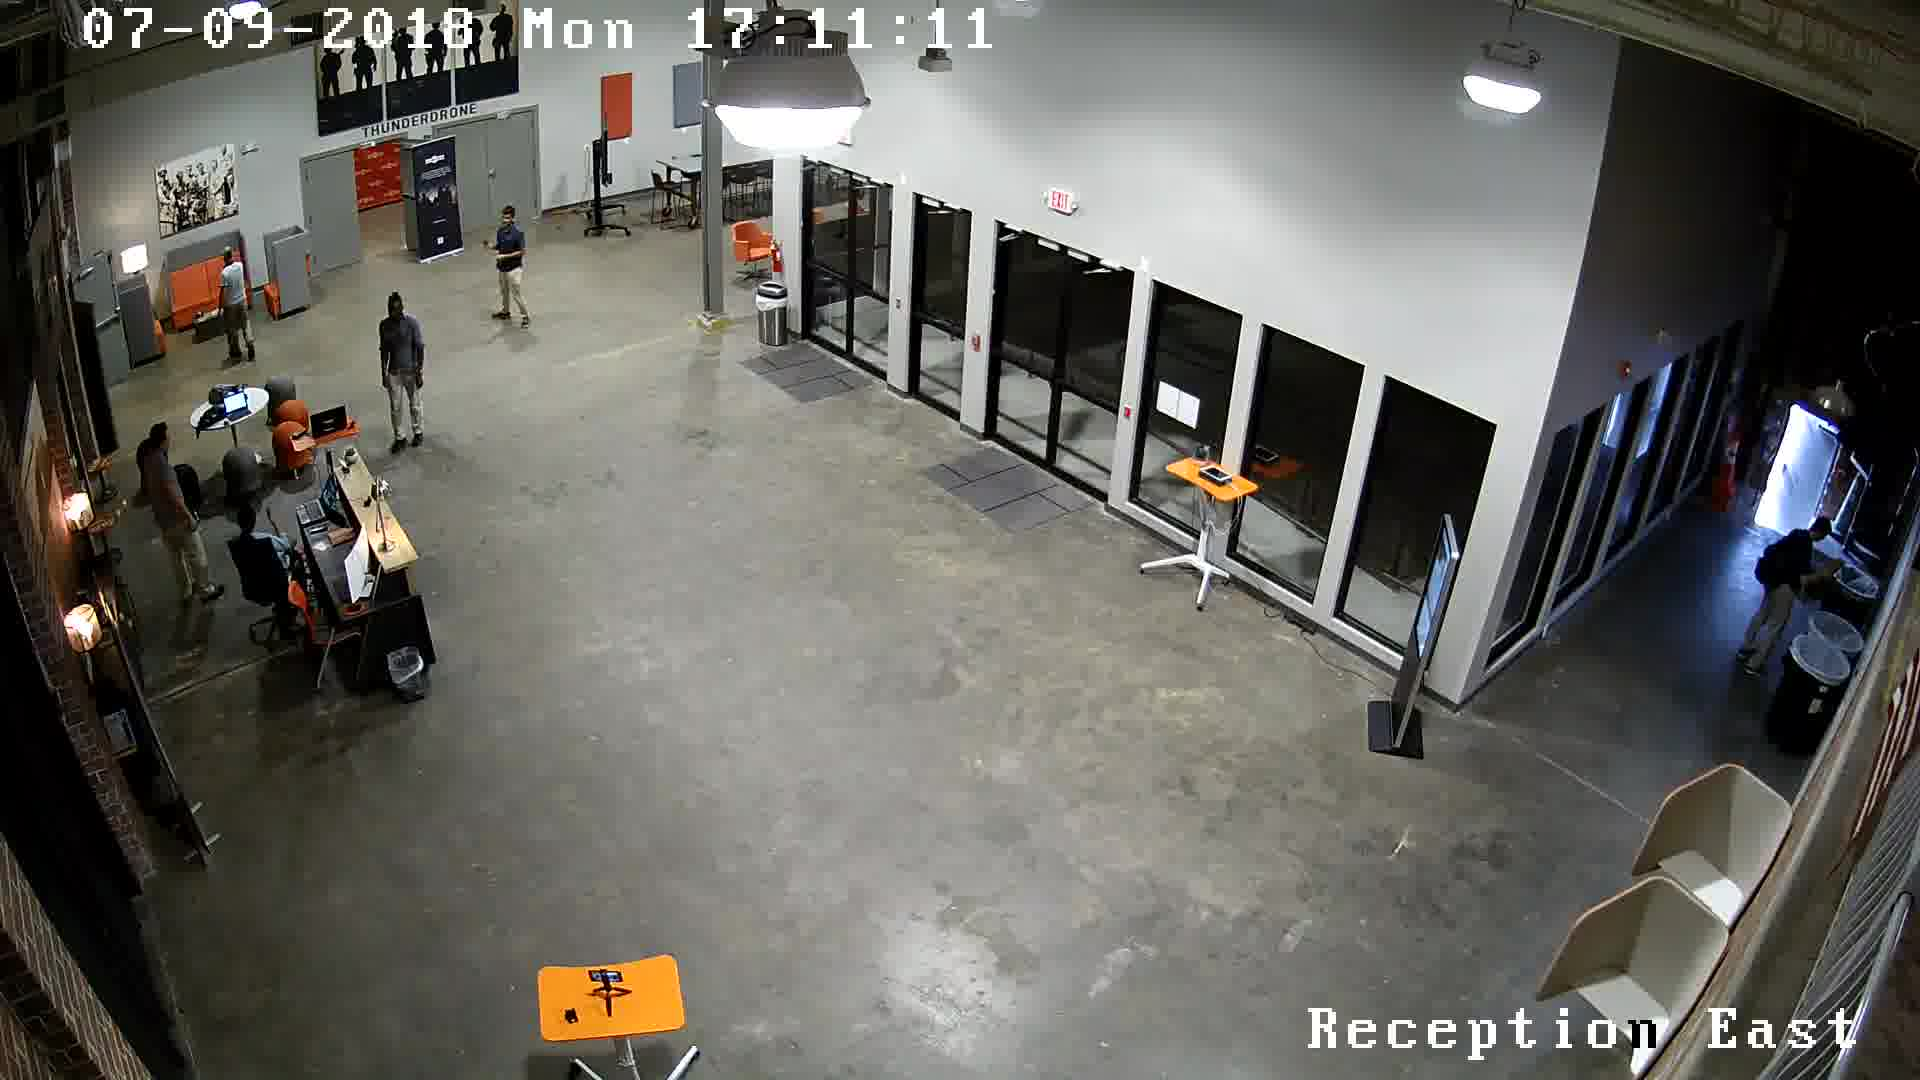pistol: (476, 233, 493, 260)
